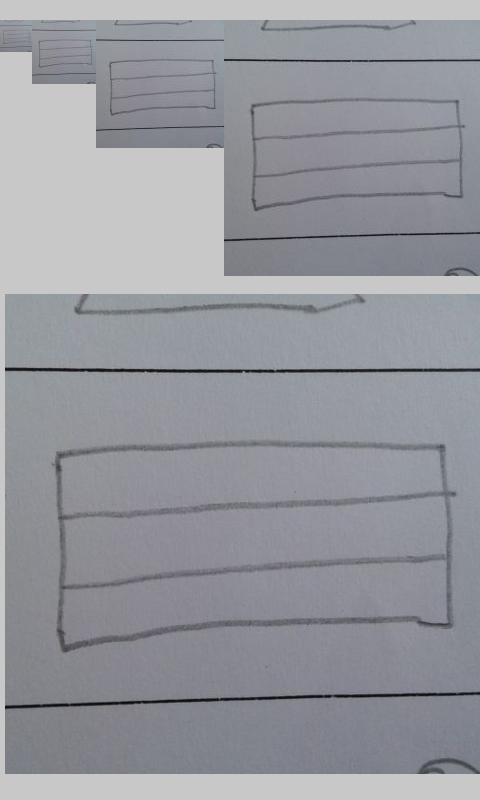list_view: (50, 439, 459, 650), (249, 97, 465, 210), (108, 58, 217, 116), (37, 38, 94, 68), (2, 29, 31, 45)
